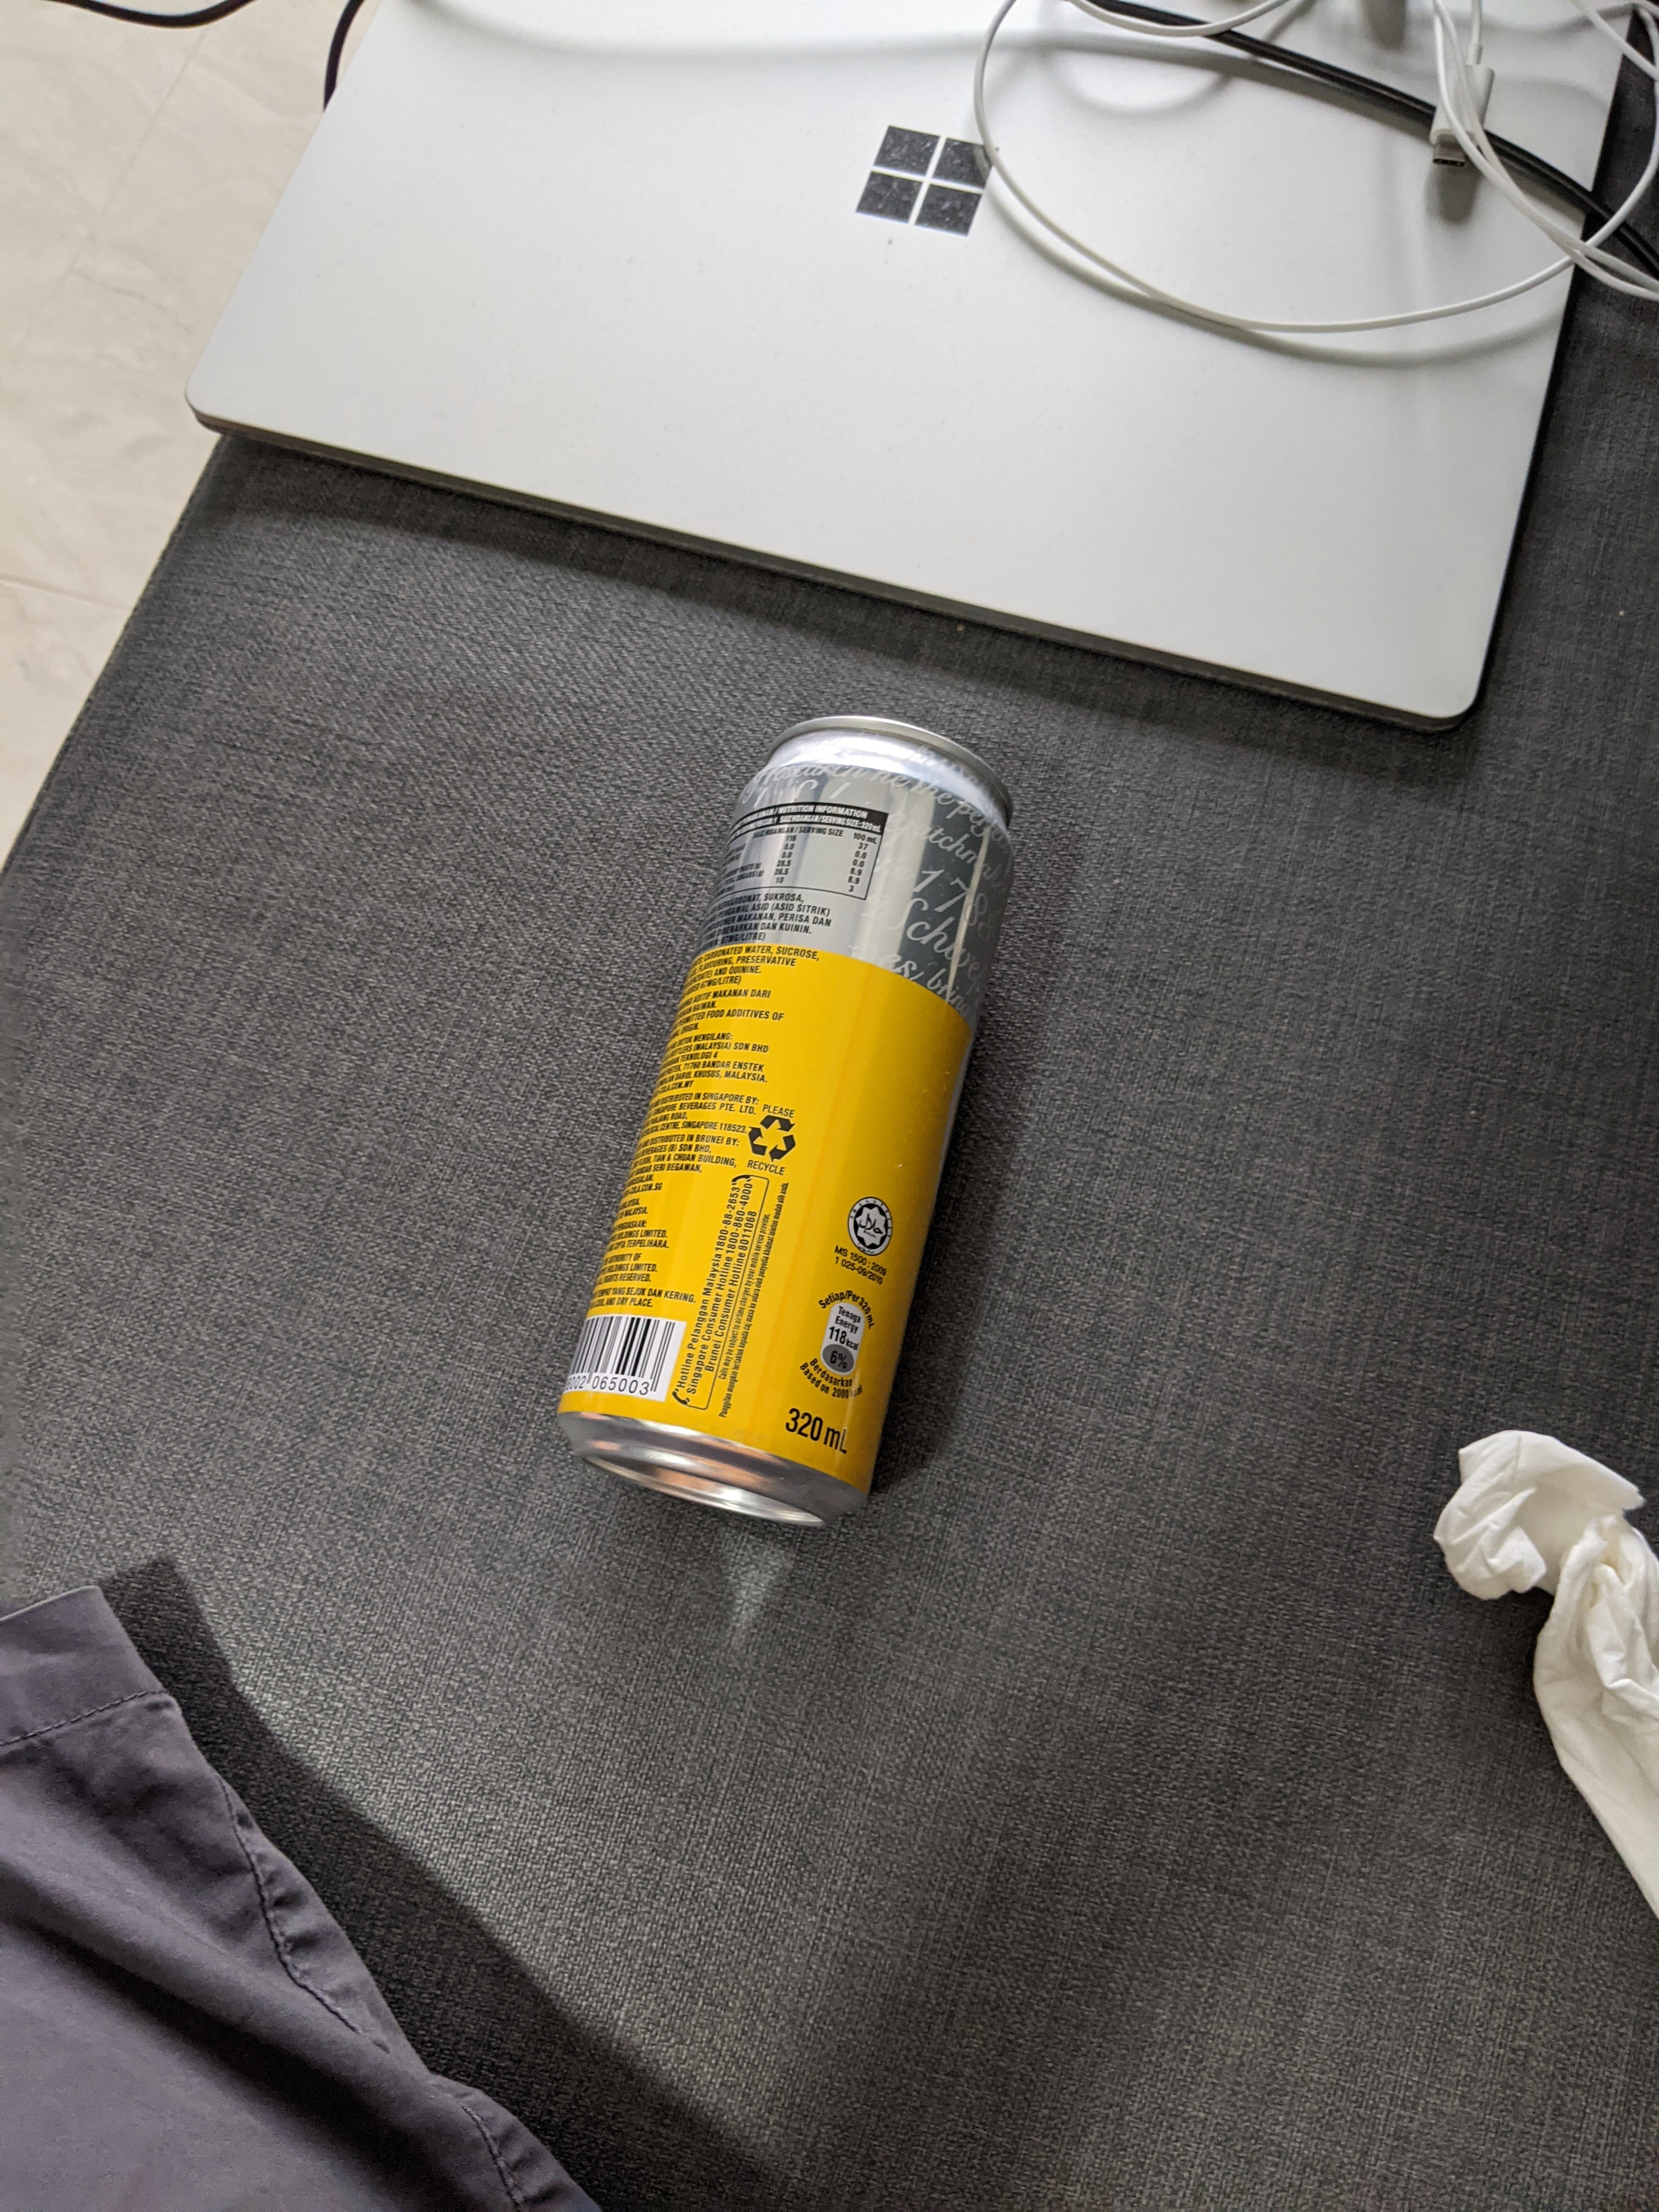schweppes drink can tonic water: (526, 681, 1047, 1580)
